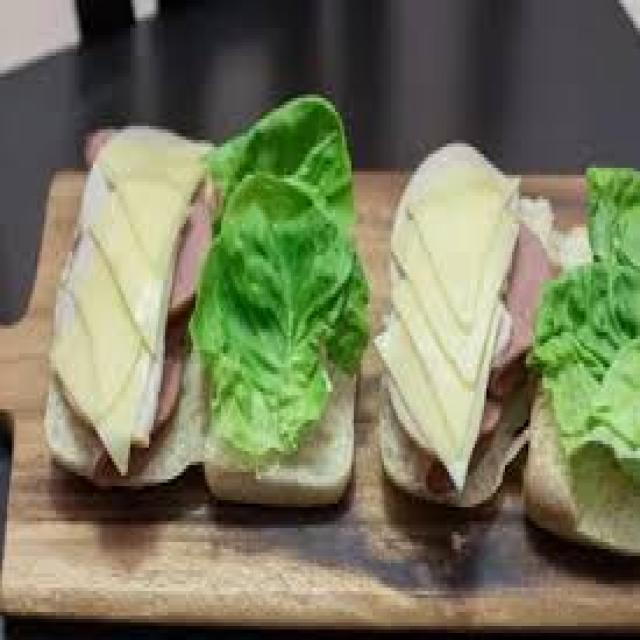cheese: (386, 145, 536, 481), (54, 137, 202, 476)
